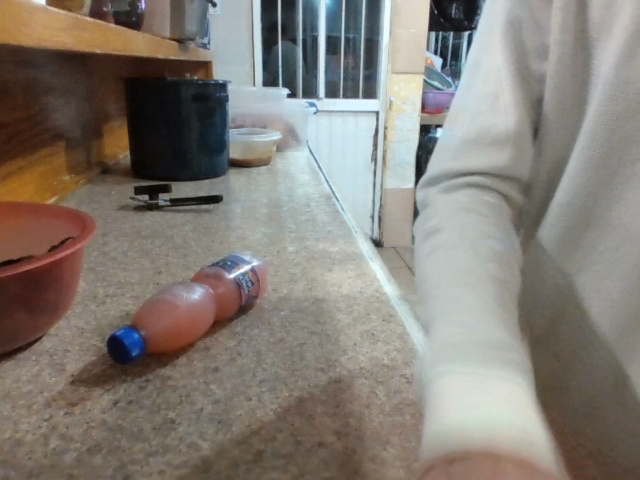botella: (75, 243, 303, 403)
